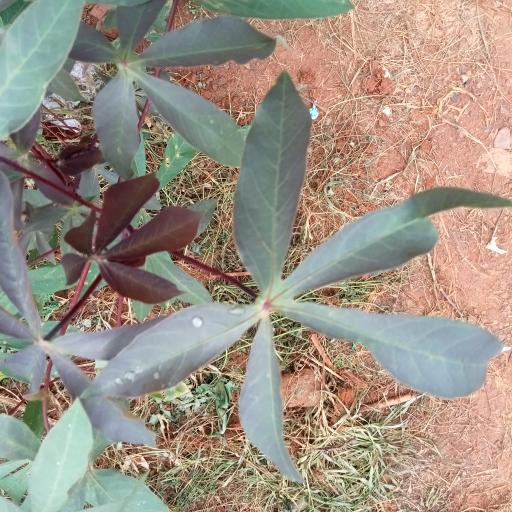Cassava_Healthy: (74, 75, 498, 480), (60, 1, 273, 174), (64, 180, 195, 300)
